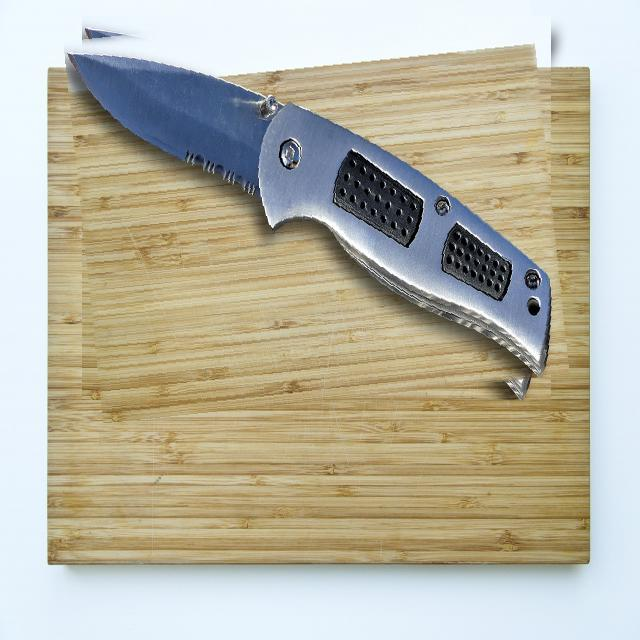knife: (73, 4, 560, 412)
